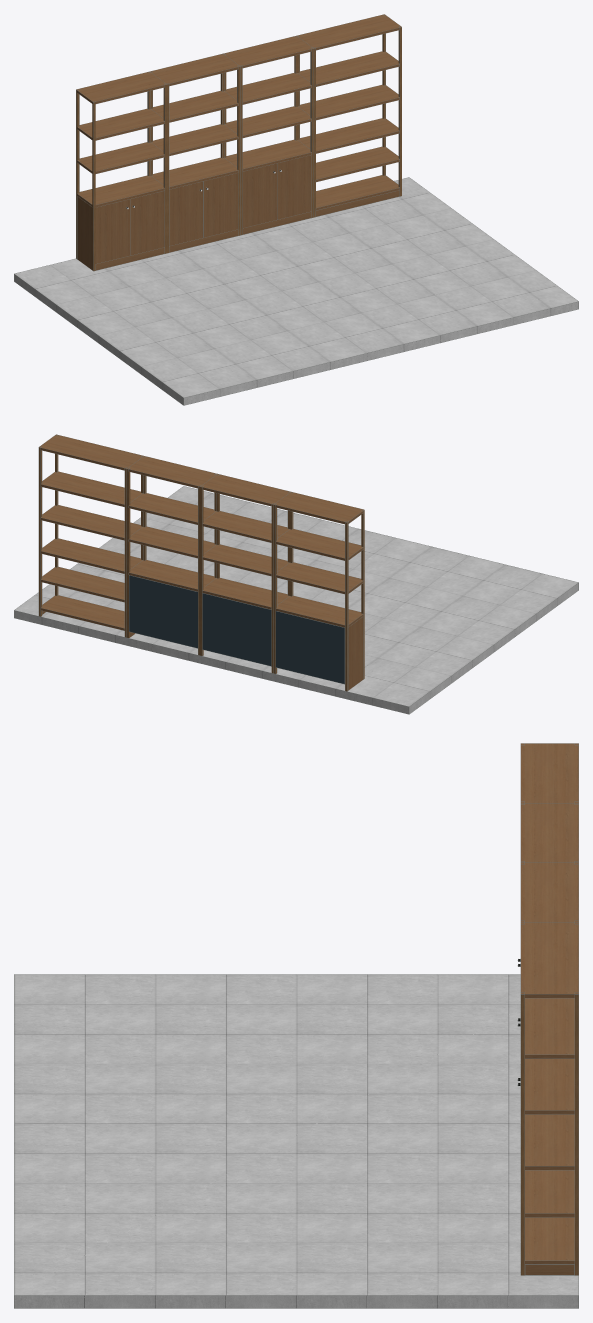
Rendered from modell.glb.
The picture shows the model from 3 angles, top to bottom: view 1: azimuth 30°, elevation 25°; view 2: azimuth 150°, elevation 25°; view 3: azimuth 270°, elevation 25°; orthographic projection. The views are drawn at different scales.
Size of the model in its own units: 5383 by 2303 by 4003.
9 materials, 6 textured.
